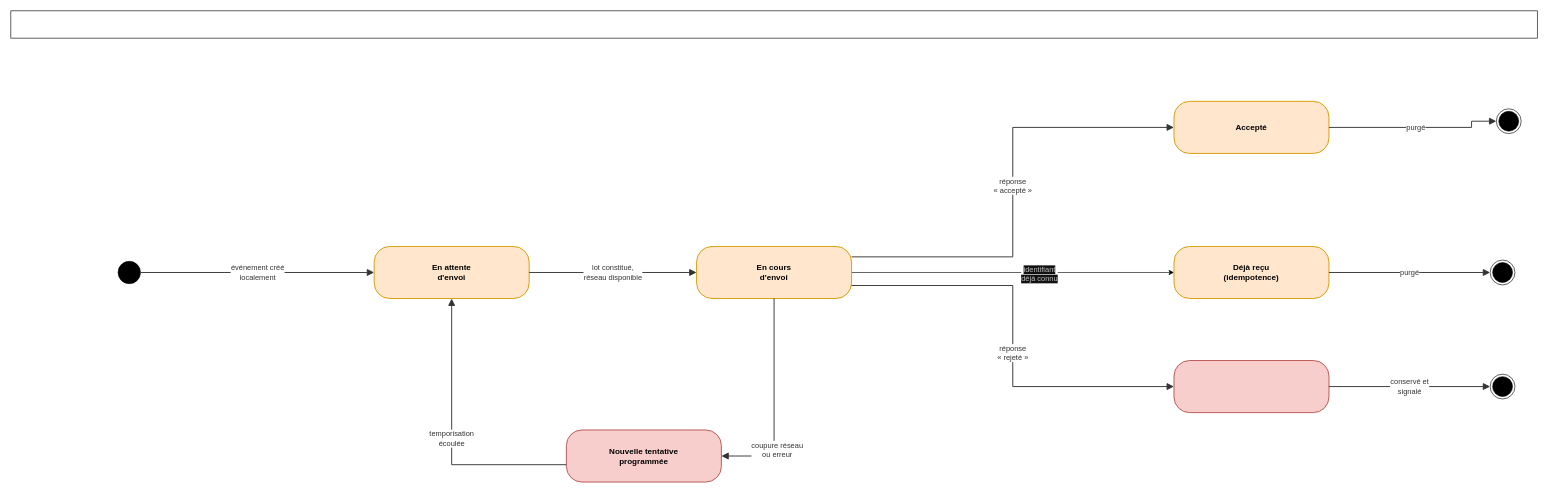
Image size: 1548x494. Some labels were removed from this diagram. The centre of each missing label's shape, as x and y in pixels:
"Diagramme d'états-transitions 3 — Événement dans la file d'envoi" belongs at (x=773, y=24).
"Rejeté (motif)" belongs at (x=1251, y=386).
